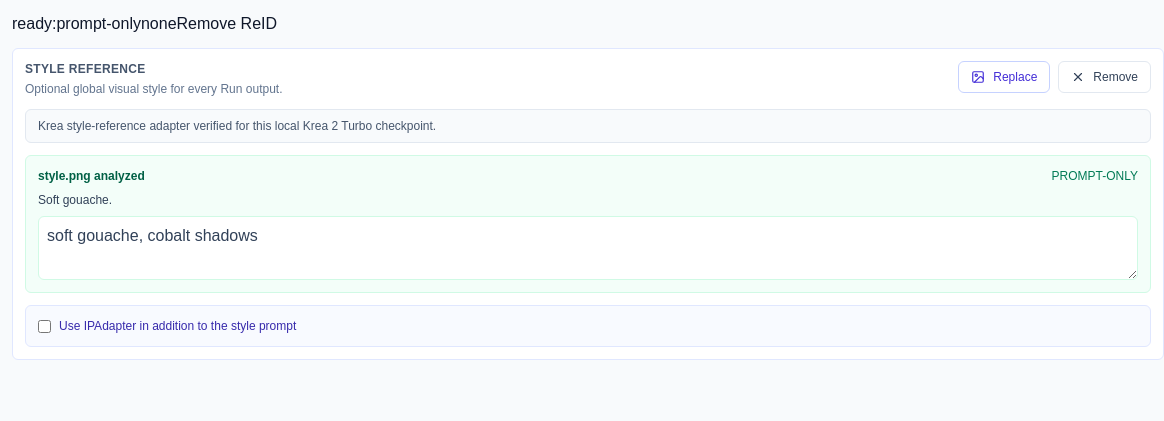
Test: StyleReferencePanel › enables the Krea adapter only after its local preflight verifies the selected checkpoint
Step 1. Click the checkbox labelled "Use IPAdapter in addition to the style prompt" → (44, 326), box [38, 320, 51, 332]
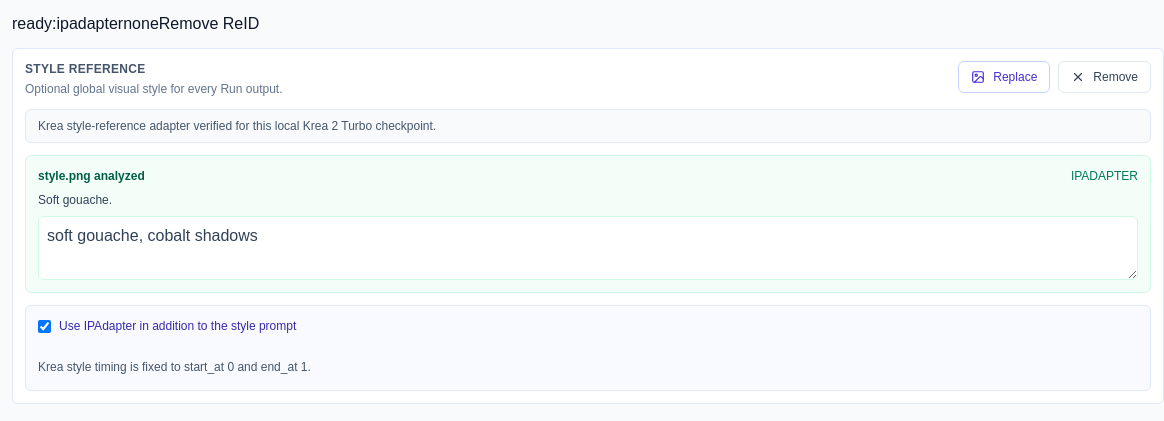
Expected: the text "Krea style timing is fixed to start_at 0 and end_at 1" is shown, [38, 360, 311, 374]
